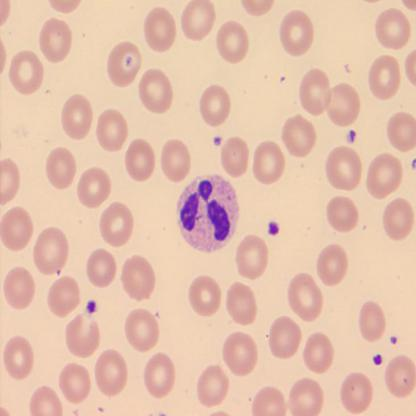Segmented neutrophil: (174, 170, 240, 255)
